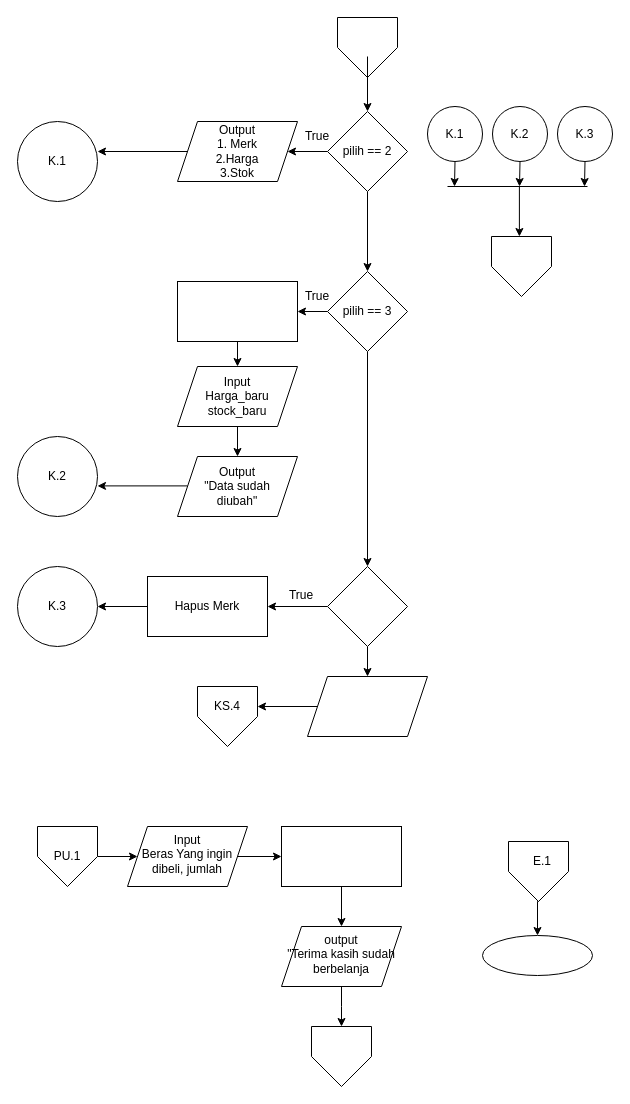
This 630x1104 diagram has some shape labels left out. Here are the shapes that lost their labels. From the top down, the centre of each, then its label:
point 367,47: P.1
point 521,266: PL.1
point 237,311: Pilih Merk Beras
point 367,606: pilih == 4
point 367,706: Output Anda Keluar
point 341,856: Harga = Harga beras * Jumlah beli
point 537,955: END
point 341,1056: K.5
